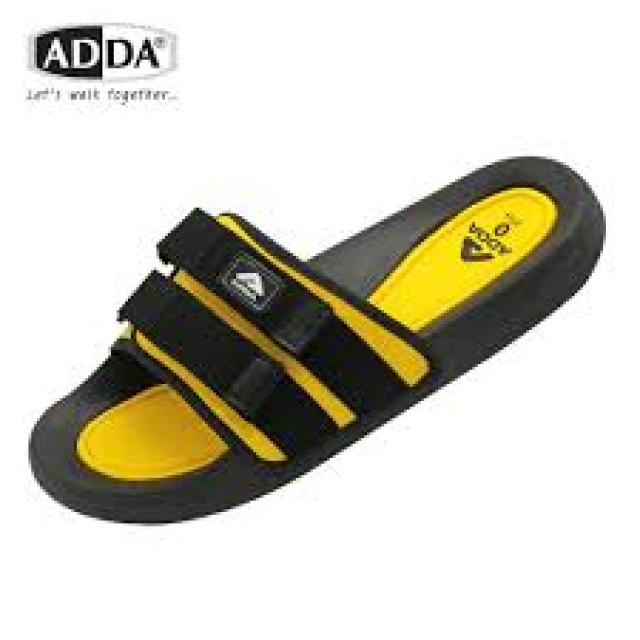shoe: (29, 155, 608, 529)
